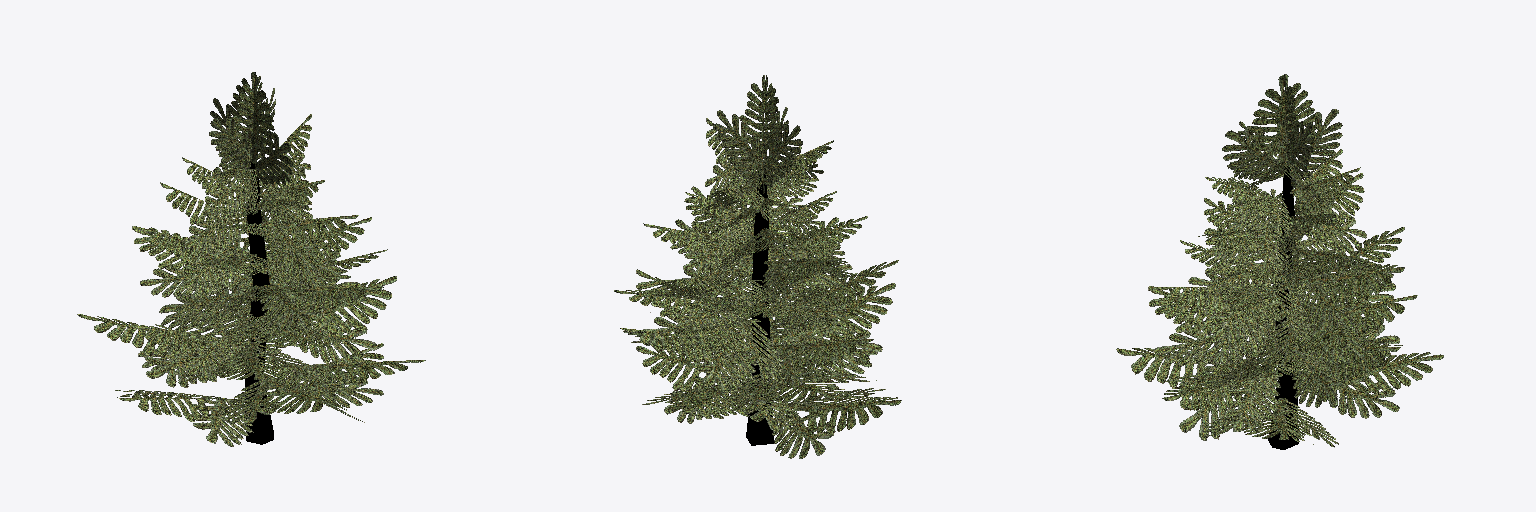
3 views of the same model, side by side, from view 1: azimuth 30°, elevation 25°; view 2: azimuth 150°, elevation 25°; view 3: azimuth 270°, elevation 25° (orthographic).
Parts seen in each view (by area): view 1: locator3 pinetree:unnamed_object1_nadel, pinetree:unnamed_object1_stamm_stamm_jpg locator3; view 2: locator3 pinetree:unnamed_object1_nadel, pinetree:unnamed_object1_stamm_stamm_jpg locator3; view 3: locator3 pinetree:unnamed_object1_nadel, pinetree:unnamed_object1_stamm_stamm_jpg locator3.
Part boxes in pixels (bbox=[...]): locator3 pinetree:unnamed_object1_nadel: bbox=[77, 72, 425, 446]; pinetree:unnamed_object1_stamm_stamm_jpg locator3: bbox=[245, 162, 273, 444]; locator3 pinetree:unnamed_object1_nadel: bbox=[614, 75, 901, 458]; pinetree:unnamed_object1_stamm_stamm_jpg locator3: bbox=[746, 169, 773, 445]; locator3 pinetree:unnamed_object1_nadel: bbox=[1116, 74, 1443, 447]; pinetree:unnamed_object1_stamm_stamm_jpg locator3: bbox=[1268, 166, 1298, 449].
Bounding box in the file's own units: 4.5 × 5.73 × 4.7.
Materials: 2 (1 with a texture image).